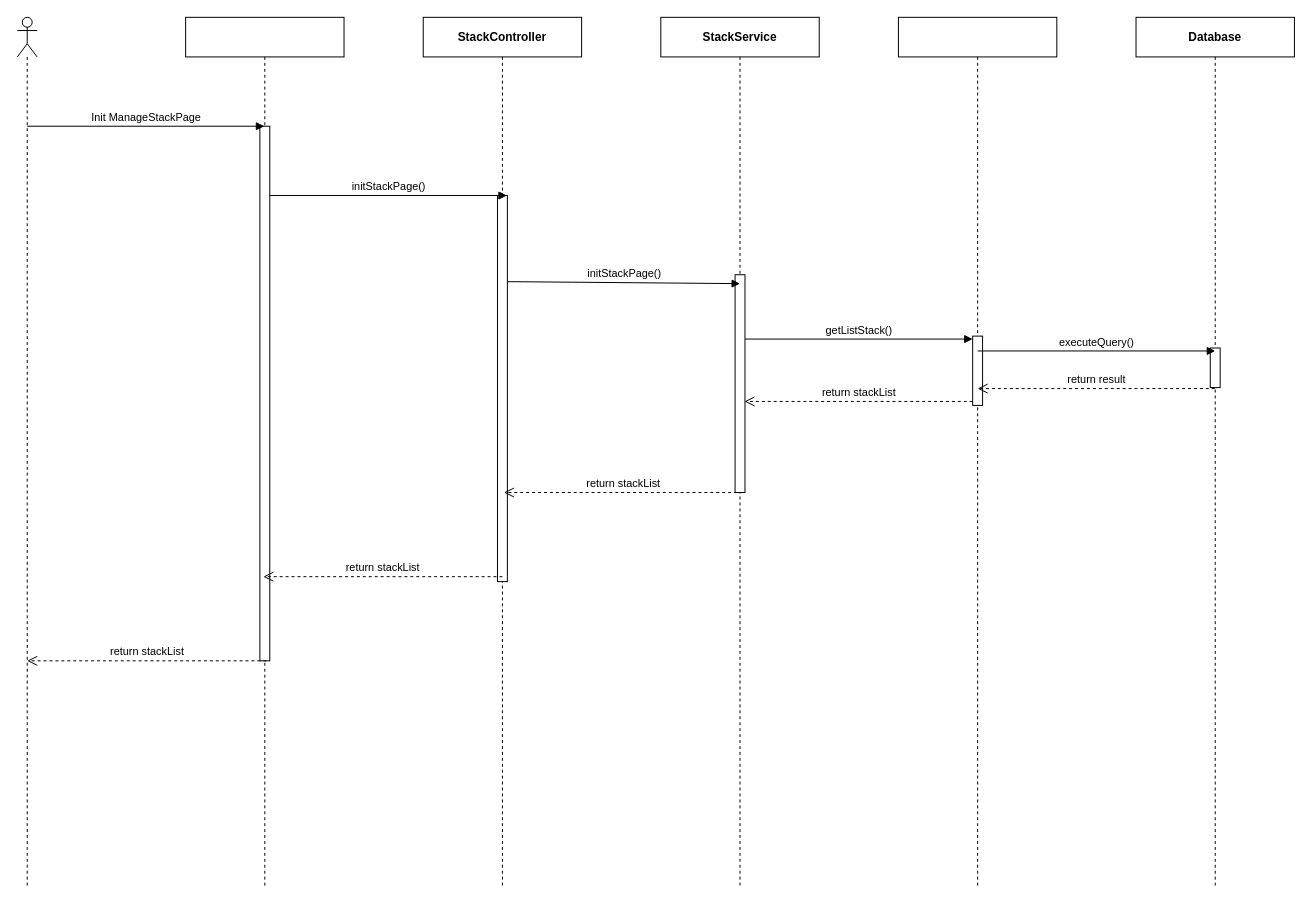
This 1312x906 diagram has some shape labels left out. The box of each missing label's shape, as (x1, y1, x2, y2) in pixels:
ManageStackPage: (185, 16, 344, 889)
StackDao: (897, 16, 1057, 889)
